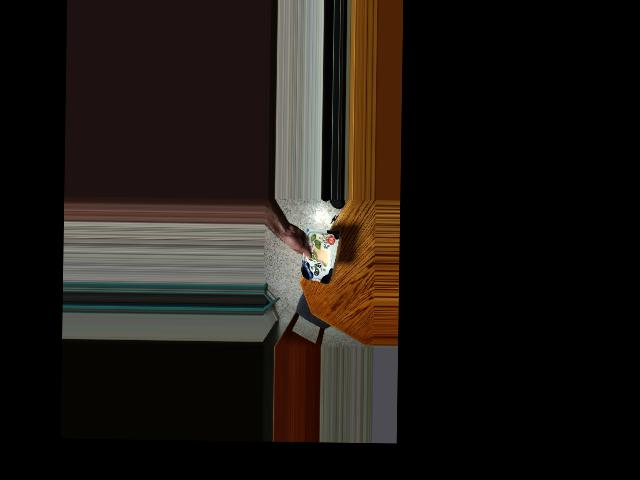cheese: (291, 225, 343, 283)
